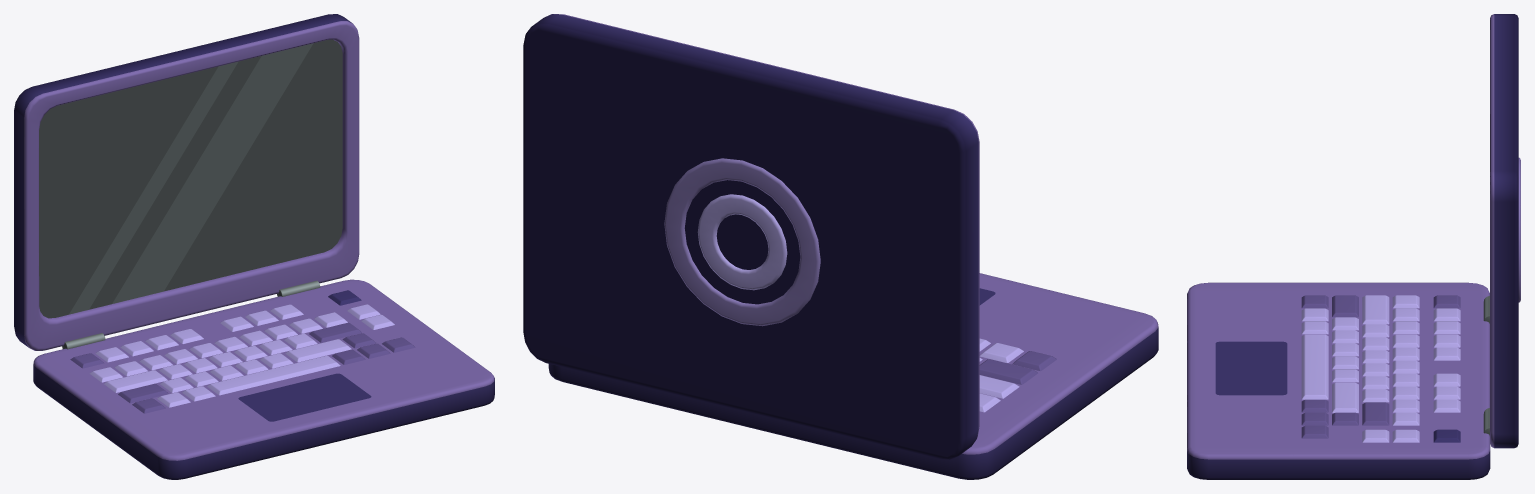
File: laptop.fbx
3 views of the same model, side by side, from view 1: azimuth 30°, elevation 25°; view 2: azimuth 150°, elevation 25°; view 3: azimuth 270°, elevation 25° (orthographic). The views are drawn at different scales.
Parts seen in each view (by area): view 1: laptop; view 2: laptop; view 3: laptop.
Boxes of the visible parts, x1,y1,x2,y2 form: laptop: [14, 14, 494, 479]; laptop: [523, 14, 1158, 479]; laptop: [1187, 14, 1520, 479].
Bounding box in the file's own units: 1.43 × 1.15 × 1.15.
